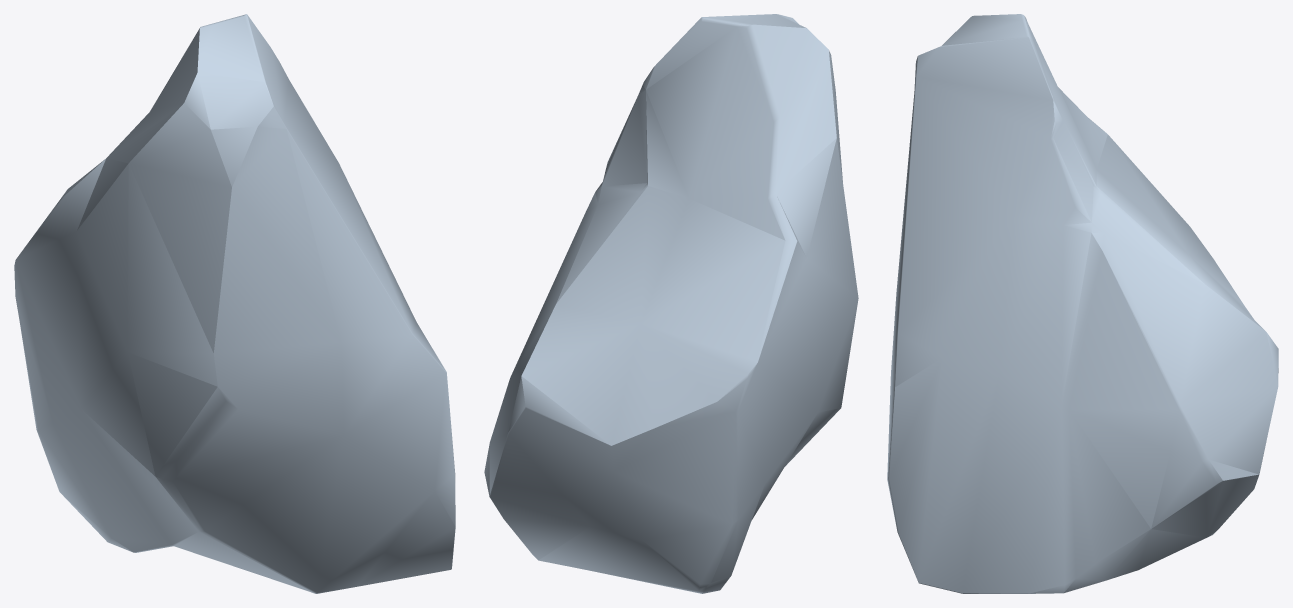
File: rocks.glb
The picture shows the model from 3 angles, left to right: view 1: azimuth 30°, elevation 25°; view 2: azimuth 150°, elevation 25°; view 3: azimuth 270°, elevation 25°; orthographic projection. The views are drawn at different scales.
Bounding box in the file's own units: 0.0136 × 0.0249 × 0.0172.
1 material, 1 textured.
